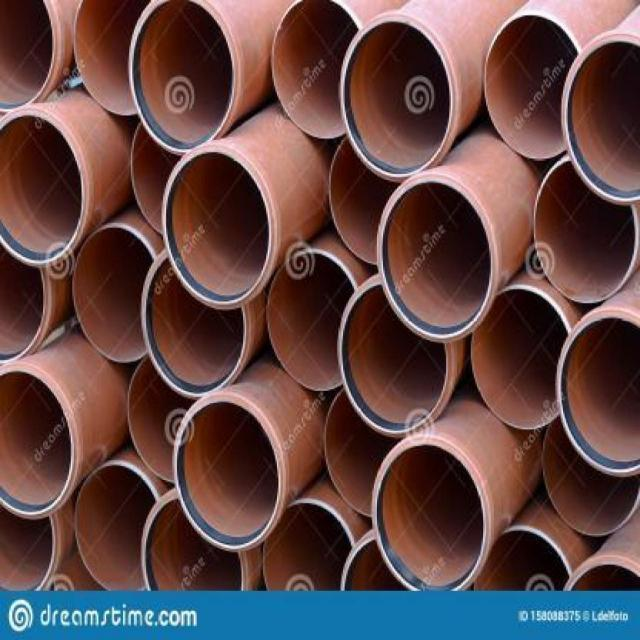pipe: (378, 177, 493, 342), (340, 277, 457, 437), (340, 18, 453, 182), (163, 147, 276, 309), (371, 439, 490, 590), (173, 393, 286, 552), (130, 0, 238, 154), (141, 253, 251, 399), (534, 158, 639, 304), (485, 14, 582, 160), (557, 309, 640, 477), (473, 288, 570, 430), (561, 32, 640, 204), (0, 111, 86, 267), (271, 0, 362, 140), (0, 364, 80, 518), (268, 252, 355, 392), (543, 414, 639, 538), (73, 226, 155, 362), (140, 490, 244, 592), (76, 463, 158, 592), (72, 0, 151, 117), (263, 502, 354, 591), (126, 123, 173, 235), (495, 527, 572, 592), (0, 510, 57, 590)
